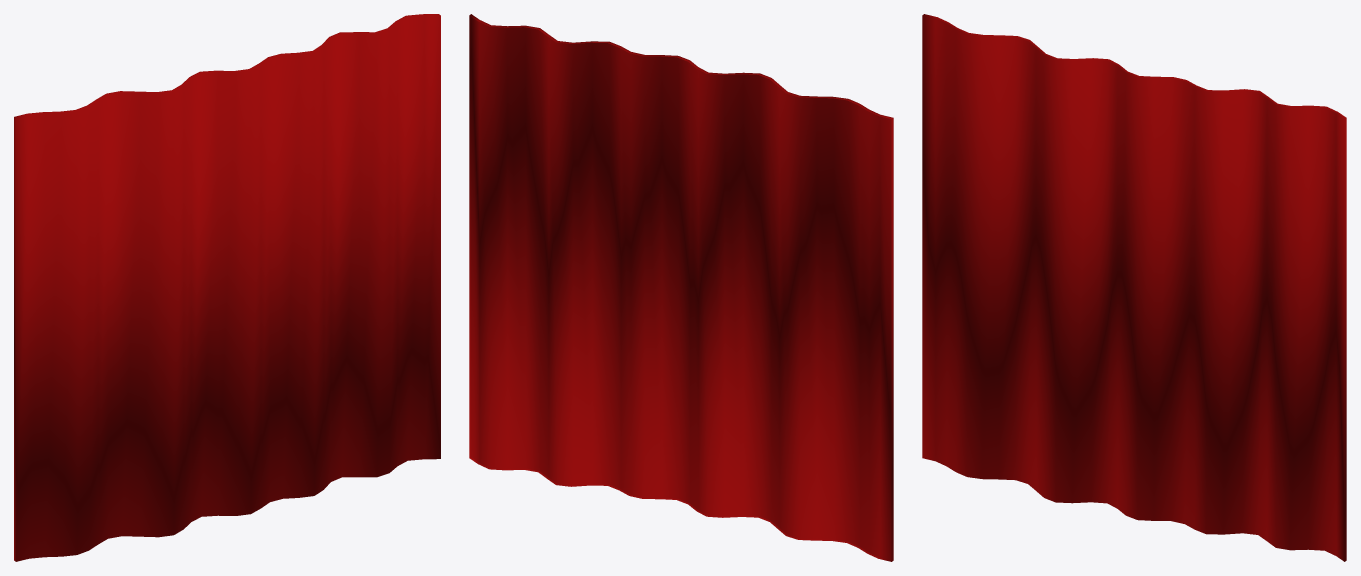
The model's file is vorhang.glb.
The picture shows the model from 3 angles, left to right: view 1: azimuth 30°, elevation 25°; view 2: azimuth 150°, elevation 25°; view 3: azimuth 330°, elevation 25°; orthographic projection.
Parts seen in each view (by area): view 1: Vorhang; view 2: Vorhang; view 3: Vorhang.
Part boxes in pixels (x1,y1,x2,y2): Vorhang: (14,14,440,561); Vorhang: (469,14,893,561); Vorhang: (922,14,1346,561).
Size of the model in its own units: 2 by 2 by 0.1618.
